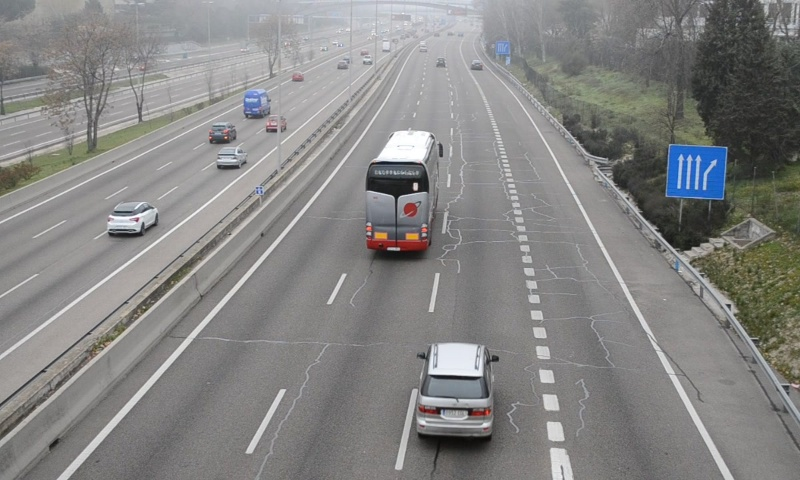bus: (364, 130, 439, 253)
car: (413, 342, 493, 438), (469, 58, 484, 70)
